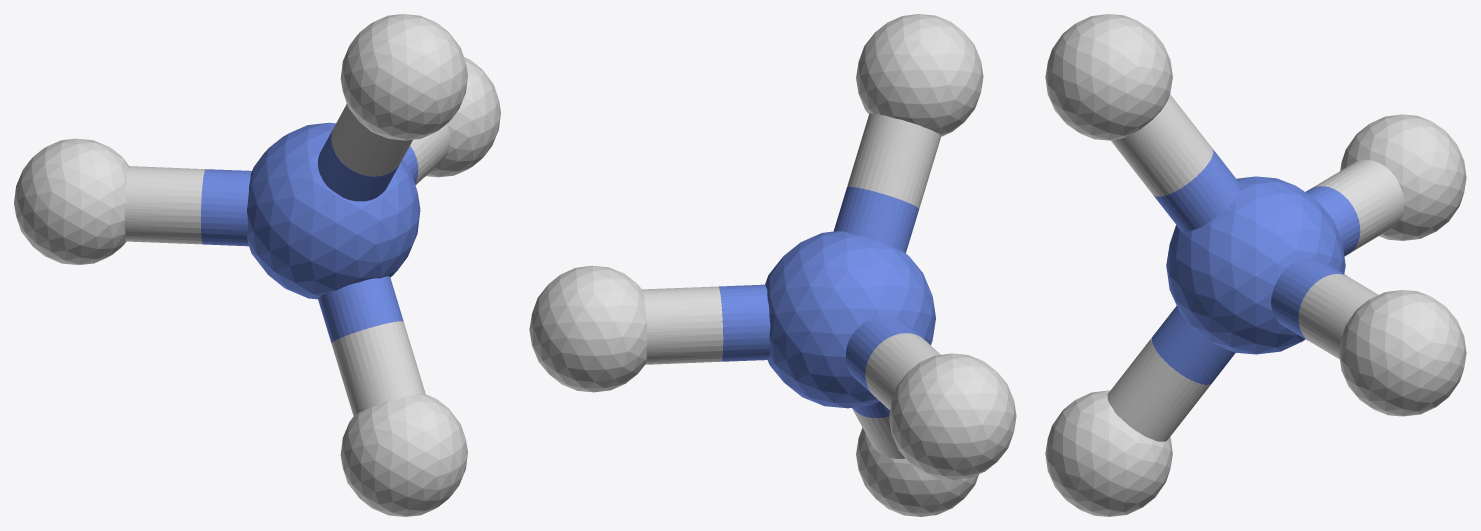
The model's file is ammonium.fbx.
3 views of the same model, side by side, from view 1: azimuth 30°, elevation 25°; view 2: azimuth 150°, elevation 25°; view 3: azimuth 270°, elevation 25° (orthographic).
Parts seen in each view (by area): view 1: Shape_IndexedFaceSet, Shape_IndexedFaceSet.002, Shape_IndexedFaceSet.001, Shape_IndexedFaceSet.004, Shape_IndexedFaceSet.007, Shape_IndexedFaceSet.016, Shape_IndexedFaceSet.003, Shape_IndexedFaceSet.015, Shape_IndexedFaceSet.005, Shape_IndexedFaceSet.013, Shape_IndexedFaceSet.012, Shape_IndexedFaceSet.010; view 2: Shape_IndexedFaceSet, Shape_IndexedFaceSet.004, Shape_IndexedFaceSet.003, Shape_IndexedFaceSet.002, Shape_IndexedFaceSet.013, Shape_IndexedFaceSet.010, Shape_IndexedFaceSet.001, Shape_IndexedFaceSet.009, Shape_IndexedFaceSet.012, Shape_IndexedFaceSet.007, Shape_IndexedFaceSet.005, Shape_IndexedFaceSet.016; view 3: Shape_IndexedFaceSet, Shape_IndexedFaceSet.003, Shape_IndexedFaceSet.002, Shape_IndexedFaceSet.001, Shape_IndexedFaceSet.004, Shape_IndexedFaceSet.016, Shape_IndexedFaceSet.013, Shape_IndexedFaceSet.007, Shape_IndexedFaceSet.010, Shape_IndexedFaceSet.012, Shape_IndexedFaceSet.015, Shape_IndexedFaceSet.009 (+1 smaller).
Part boxes in pixels (x1,y1,x2,y2): Shape_IndexedFaceSet: (247,122,420,299); Shape_IndexedFaceSet.002: (340,14,467,140); Shape_IndexedFaceSet.001: (340,394,467,516); Shape_IndexedFaceSet.004: (14,138,128,264); Shape_IndexedFaceSet.007: (124,166,205,244); Shape_IndexedFaceSet.016: (331,321,425,416); Shape_IndexedFaceSet.003: (426,57,500,177); Shape_IndexedFaceSet.015: (318,276,403,343); Shape_IndexedFaceSet.005: (201,169,251,246); Shape_IndexedFaceSet.013: (331,104,412,176); Shape_IndexedFaceSet.012: (318,130,399,201); Shape_IndexedFaceSet.010: (410,124,450,184); Shape_IndexedFaceSet: (765,231,935,408); Shape_IndexedFaceSet.004: (889,353,1016,479); Shape_IndexedFaceSet.003: (529,265,647,392); Shape_IndexedFaceSet.002: (856,14,983,136); Shape_IndexedFaceSet.013: (847,113,941,208); Shape_IndexedFaceSet.010: (642,286,723,364); Shape_IndexedFaceSet.001: (856,427,978,516); Shape_IndexedFaceSet.009: (718,284,770,361); Shape_IndexedFaceSet.012: (833,186,919,252); Shape_IndexedFaceSet.007: (865,333,940,409); Shape_IndexedFaceSet.005: (846,315,923,393); Shape_IndexedFaceSet.016: (852,408,905,458); Shape_IndexedFaceSet: (1166,176,1345,354); Shape_IndexedFaceSet.003: (1339,290,1466,416); Shape_IndexedFaceSet.002: (1045,14,1172,140); Shape_IndexedFaceSet.001: (1045,390,1172,516); Shape_IndexedFaceSet.004: (1340,114,1466,240); Shape_IndexedFaceSet.016: (1107,337,1211,441); Shape_IndexedFaceSet.013: (1111,94,1213,196); Shape_IndexedFaceSet.007: (1311,159,1404,252); Shape_IndexedFaceSet.010: (1298,274,1378,359); Shape_IndexedFaceSet.012: (1153,149,1240,231); Shape_IndexedFaceSet.015: (1152,306,1235,384); Shape_IndexedFaceSet.009: (1271,257,1347,340).
Bounding box in the file's own units: 2154 × 2154 × 1671.
